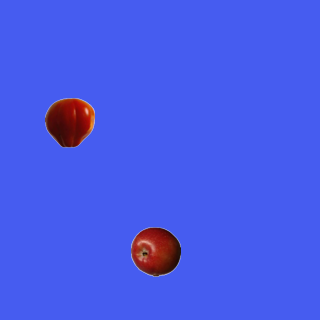Apple Braeburn: (130, 226, 180, 276)
Tomato 1: (44, 97, 94, 147)
